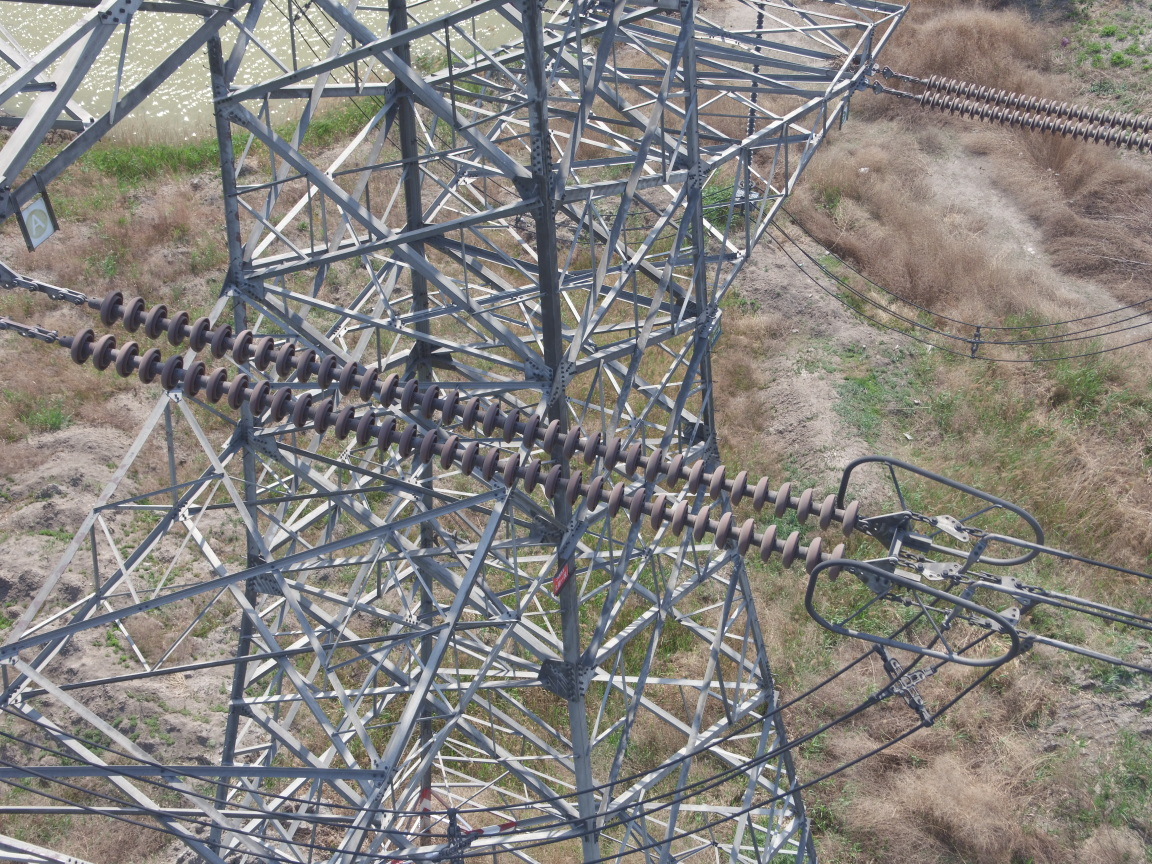insulator: (16, 281, 877, 583), (901, 70, 1152, 157)
